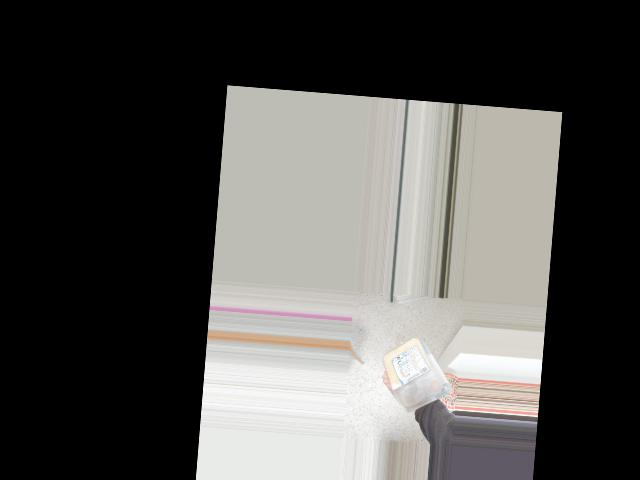cheese: (386, 334, 428, 402)
